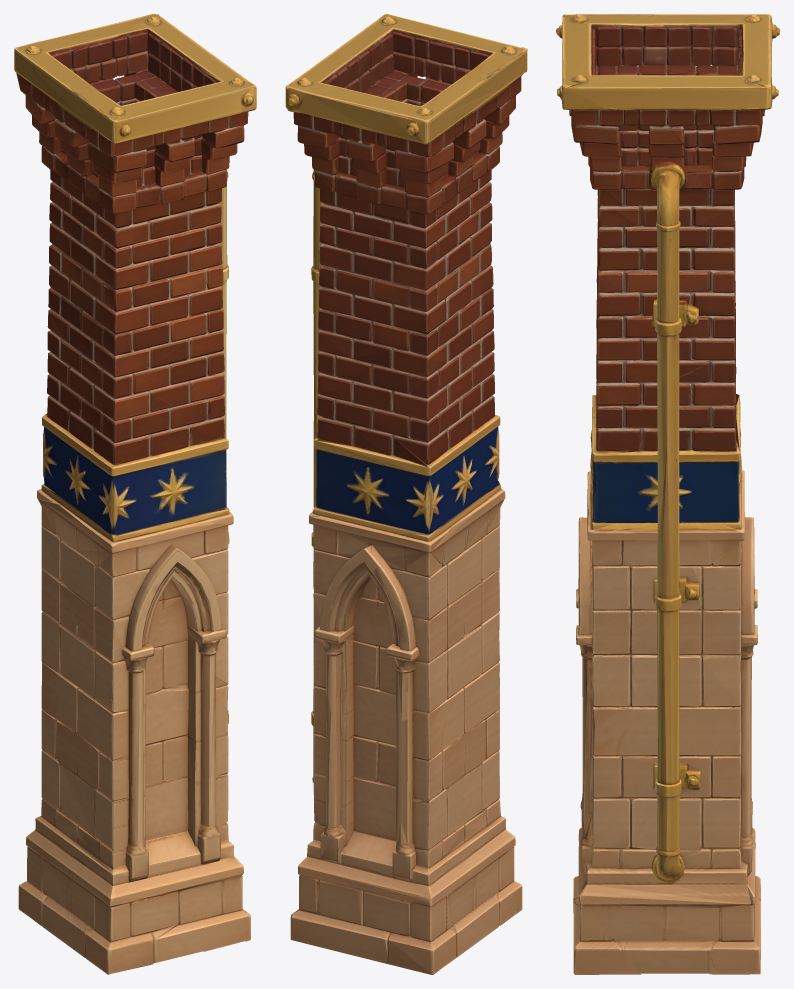
Rendered from battery-stack.glb.
3 renders of one model, left to right at view 1: azimuth 30°, elevation 25°; view 2: azimuth 150°, elevation 25°; view 3: azimuth 270°, elevation 25°, orthographic. The views are drawn at different scales.
Parts seen in each view (by area): view 1: Mesh_0; view 2: Mesh_0; view 3: Mesh_0.
Boxes of the visible parts, <box> form: Mesh_0: <box>14,14,256,974</box>; Mesh_0: <box>285,14,527,974</box>; Mesh_0: <box>556,14,779,974</box>.
Bounding box in the file's own units: 0.3823 × 1.9 × 0.4319.
1 material, 1 textured.
